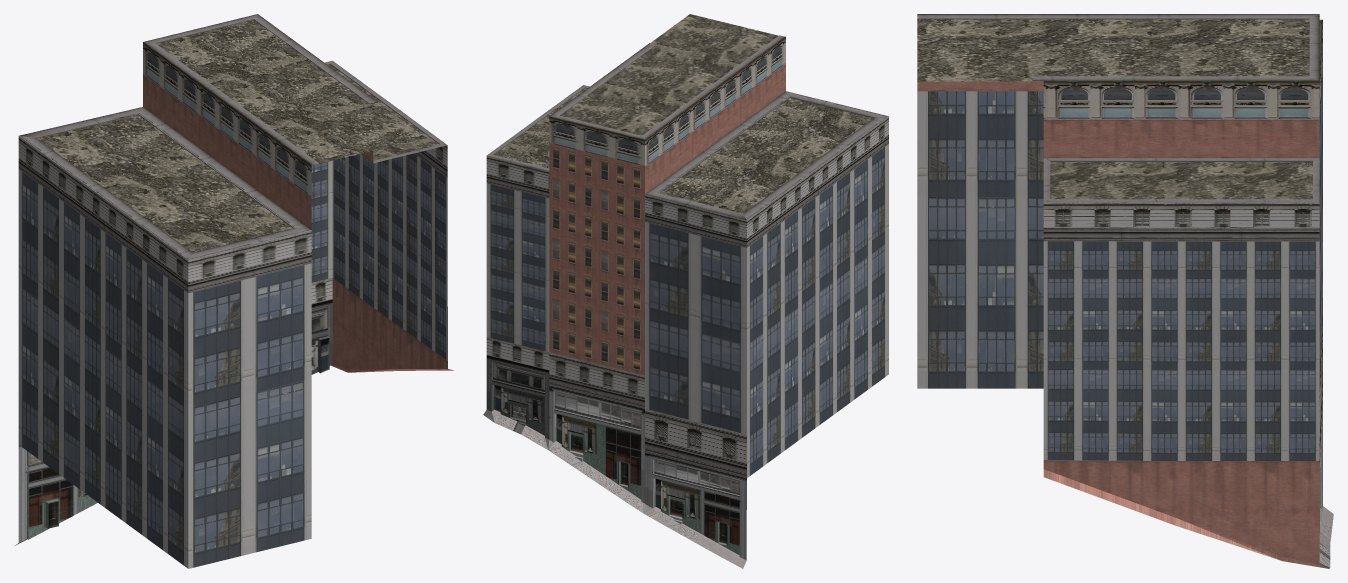
File: ferryshops4.obj
The picture shows the model from 3 angles, left to right: view 1: azimuth 30°, elevation 25°; view 2: azimuth 150°, elevation 25°; view 3: azimuth 270°, elevation 25°; orthographic projection. The views are drawn at different scales.
Parts seen in each view (by area): view 1: ferryshops4; view 2: ferryshops4; view 3: ferryshops4.
Part boxes in pixels (x1=…): ferryshops4: x1=15, y1=14, x2=453, y2=568; ferryshops4: x1=483, y1=14, x2=888, y2=568; ferryshops4: x1=917, y1=14, x2=1333, y2=568.
Size of the model in its own units: 55.72 by 79.81 by 52.69.
Materials: 9 (9 with a texture image).
